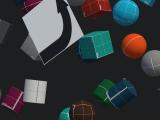Left: (22, 0, 84, 65)
